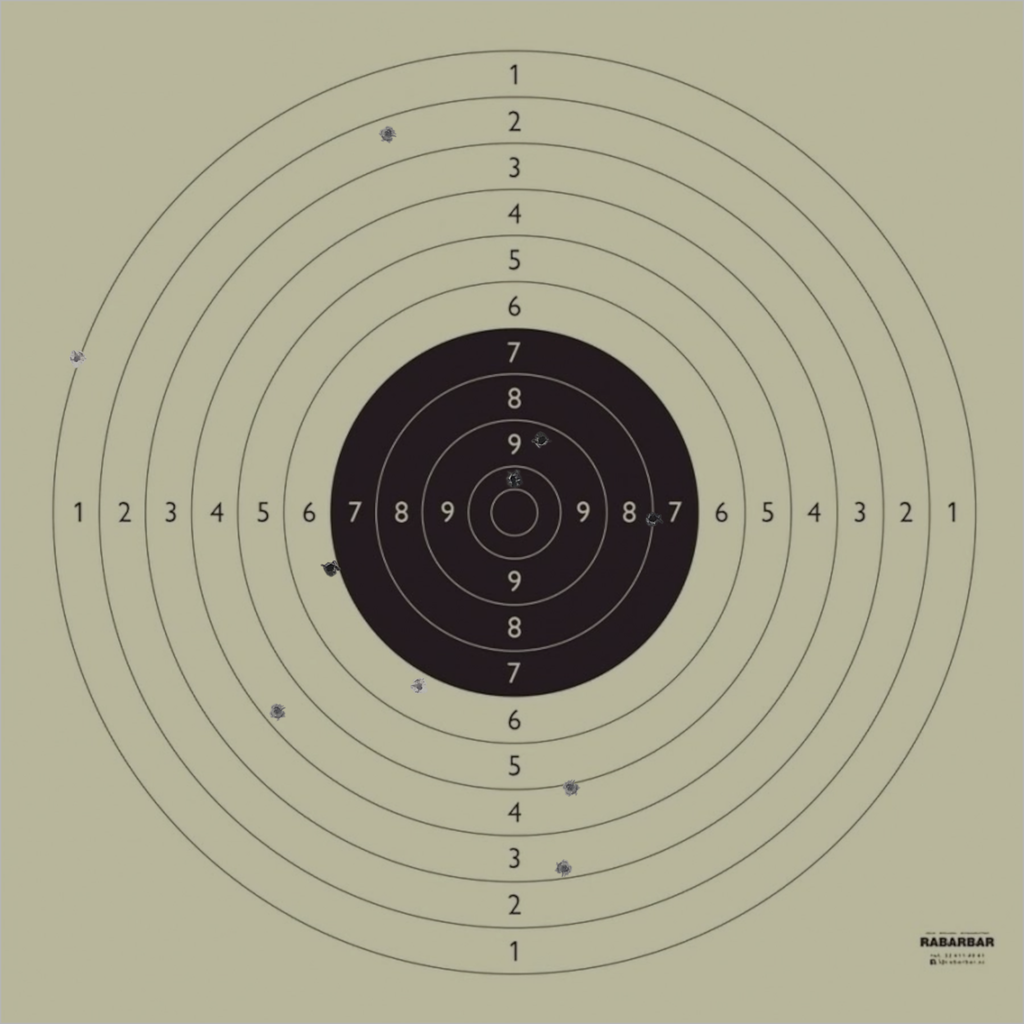0 punktow: (44, 20, 62, 39)
1 punkt: (68, 349, 86, 368)
10 punktow: (504, 470, 523, 488)
2 punkty: (379, 125, 397, 143)
3 punkty: (555, 859, 574, 878)
4 punkty: (268, 702, 287, 720)
5 punktow: (561, 778, 580, 797)
6 punktow: (410, 677, 428, 696)
7 punktow: (321, 558, 340, 577)
8 punktow: (644, 510, 662, 528)
9 punktow: (532, 431, 551, 450)
